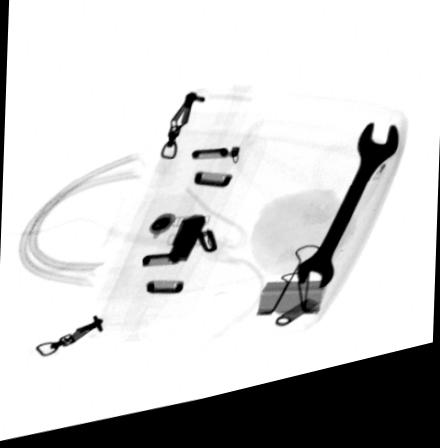Wrench: (295, 138, 400, 305)
